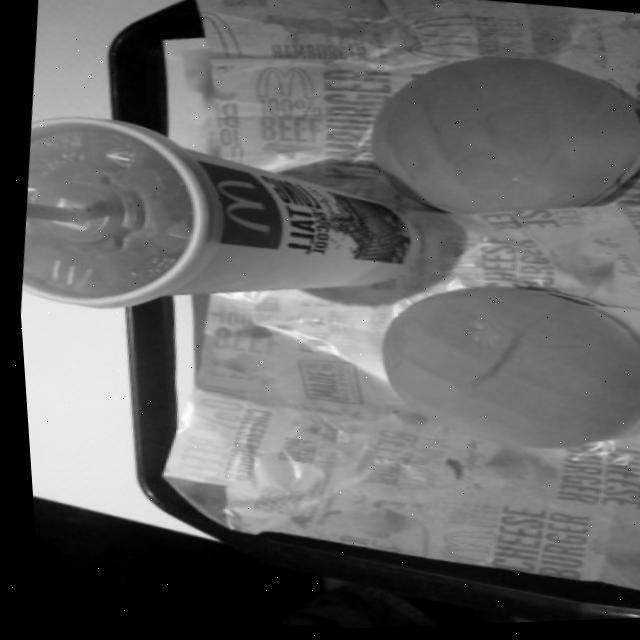汉堡快餐: (332, 26, 640, 249), (350, 258, 640, 479)
